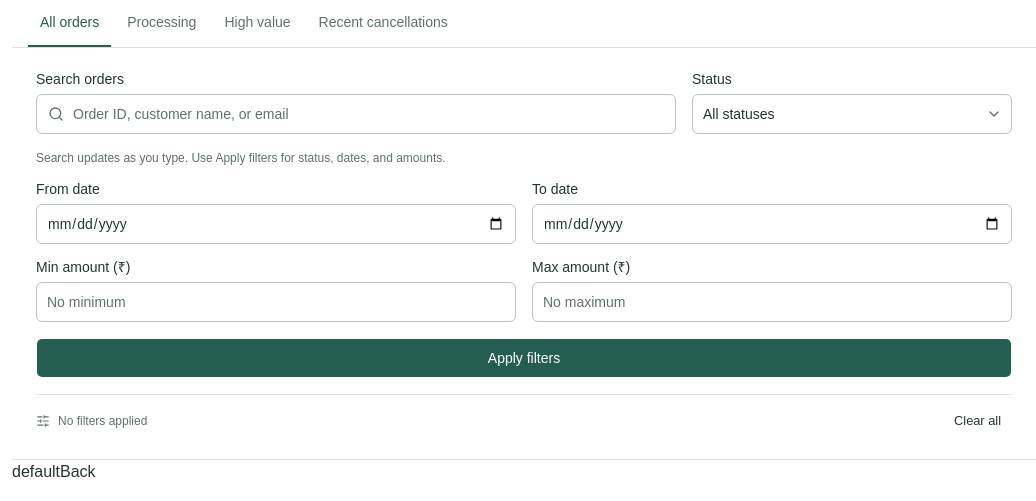
Test case: search preserves unapplied advanced filters
Type "100" into the number field labelled "Min amount (₹)" at (276, 302), box [36, 282, 516, 322]
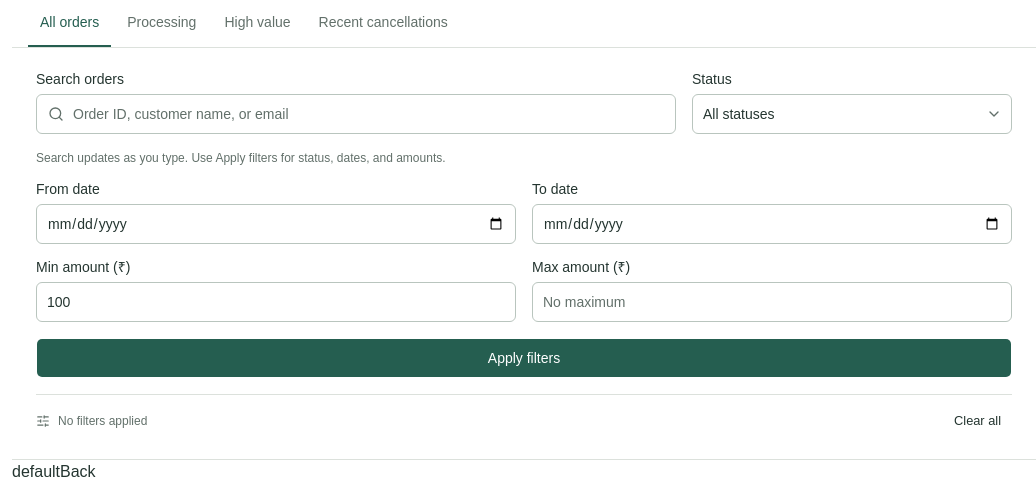
Type "Rahul" into the search field labelled "Search orders" at (356, 114), box [36, 94, 676, 134]
Wait 350 ms
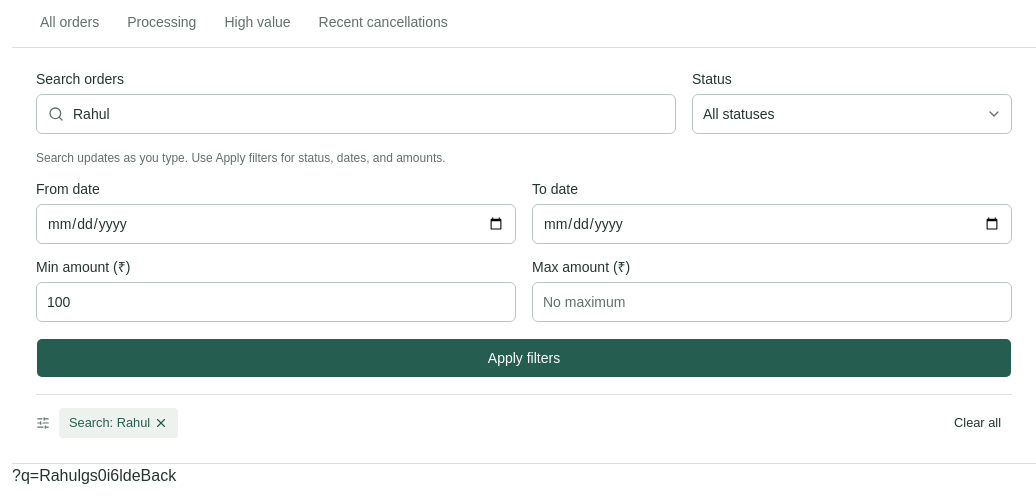
Check: the text named "URL" reads "?q=Rahul", box [12, 467, 81, 484]
Click the button "Apply filters" at (524, 358), box [36, 338, 1012, 378]
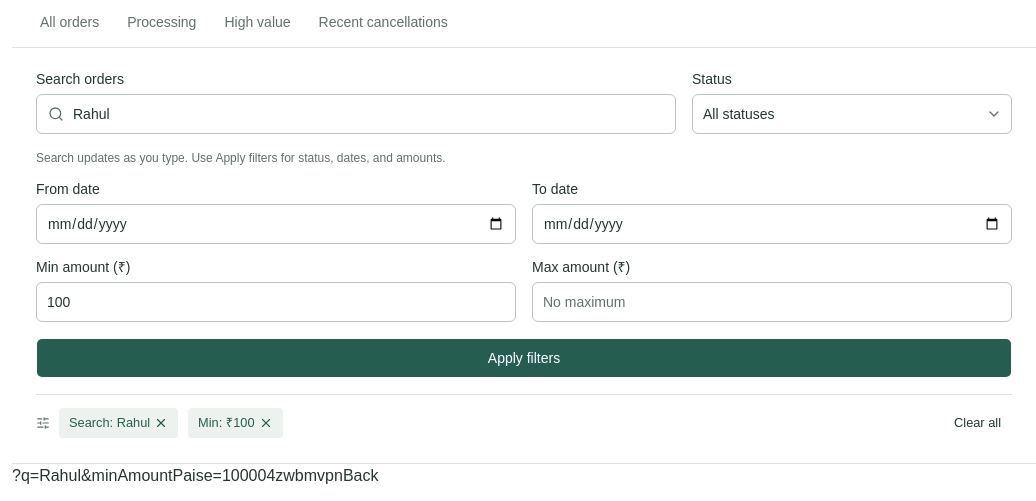
Check: the text named "URL" shows "minAmountPaise=10000", box [12, 467, 266, 484]
